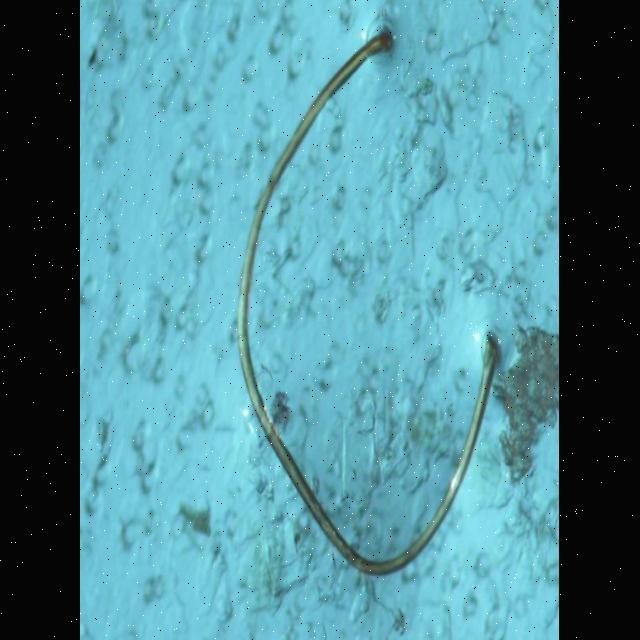Fibre: (238, 23, 504, 579)
